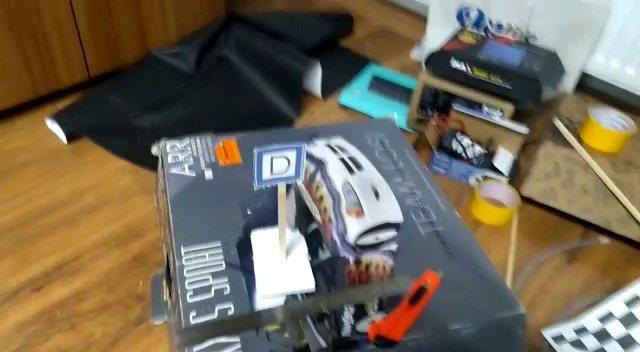durak: (257, 150, 304, 179)
